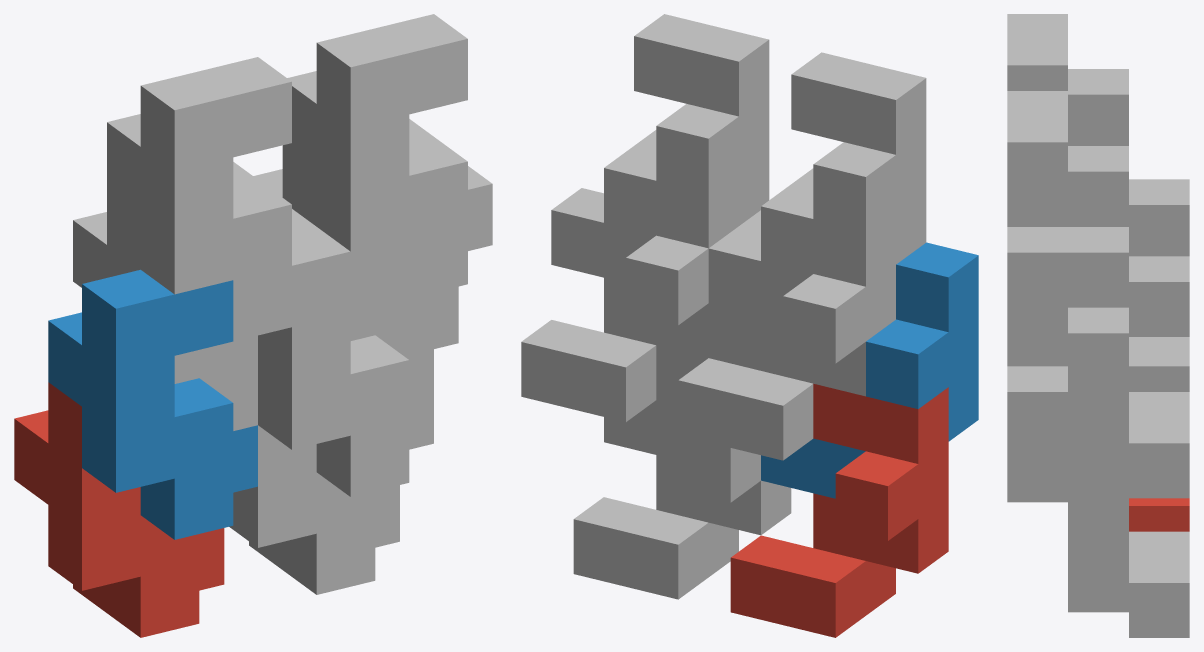
Rendered from tiling.obj.
The picture shows the model from 3 angles, left to right: view 1: azimuth 30°, elevation 25°; view 2: azimuth 150°, elevation 25°; view 3: azimuth 270°, elevation 25°; orthographic projection. The views are drawn at different scales.
Visible parts, largest first — view 1: copy_1_domain_8, copy_1_domain_2, copy_1_domain_4, copy_1_domain_6, copy_1_domain_1, copy_1_domain_5, copy_1_domain_3, copy_1_domain_7; view 2: copy_1_domain_1, copy_1_domain_3, copy_1_domain_7, copy_1_domain_4, copy_1_domain_8, copy_1_domain_5, copy_1_domain_2, copy_1_domain_6; view 3: copy_1_domain_8, copy_1_domain_7, copy_1_domain_6, copy_1_domain_5, copy_1_domain_4, copy_1_domain_3, copy_1_domain_1.
Boxes of the visible parts, <box> form: copy_1_domain_8: <box>287,14,492,298</box>; copy_1_domain_2: <box>48,269,257,539</box>; copy_1_domain_4: <box>107,57,316,341</box>; copy_1_domain_6: <box>258,227,433,496</box>; copy_1_domain_1: <box>14,382,224,637</box>; copy_1_domain_5: <box>229,425,399,594</box>; copy_1_domain_3: <box>73,162,257,430</box>; copy_1_domain_7: <box>253,119,458,388</box>; copy_1_domain_1: <box>730,383,948,637</box>; copy_1_domain_3: <box>678,184,895,460</box>; copy_1_domain_7: <box>521,146,738,422</box>; copy_1_domain_4: <box>708,52,926,321</box>; copy_1_domain_8: <box>551,14,769,282</box>; copy_1_domain_5: <box>573,345,791,599</box>; copy_1_domain_2: <box>761,242,978,498</box>; copy_1_domain_6: <box>604,210,760,460</box>; copy_1_domain_8: <box>1007,91,1128,388</box>; copy_1_domain_7: <box>1068,227,1189,498</box>; copy_1_domain_6: <box>1007,362,1128,527</box>; copy_1_domain_5: <box>1068,528,1189,637</box>; copy_1_domain_4: <box>1007,14,1128,145</box>; copy_1_domain_3: <box>1129,179,1189,391</box>; copy_1_domain_1: <box>1129,498,1189,531</box>.
Bounding box in the file's own units: 7 × 9 × 3.
